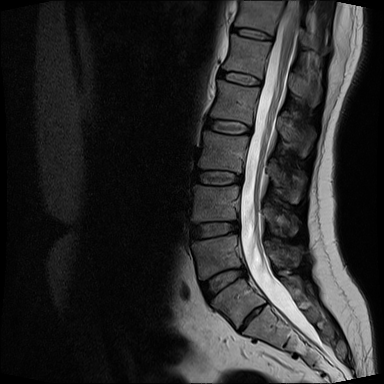Lumbar Disc Bulge (LDB): (195, 257, 253, 308)
Normal IVD: (180, 214, 244, 248), (200, 111, 256, 139), (189, 163, 246, 189), (214, 65, 266, 93), (227, 21, 276, 46)
